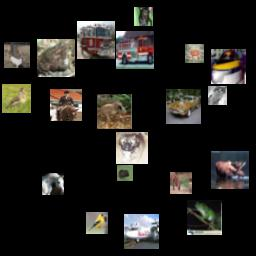airplane: (124, 214, 159, 249), (211, 49, 246, 84)
automobile: (166, 89, 201, 124)
bird: (97, 94, 132, 129), (2, 84, 31, 113), (86, 212, 108, 234)
cat: (208, 86, 227, 105)
deer: (211, 151, 249, 189), (4, 42, 30, 68), (170, 172, 192, 194), (185, 44, 204, 63)
dog: (116, 132, 148, 164), (134, 7, 153, 26)
frog: (37, 39, 75, 77), (187, 200, 222, 235), (117, 165, 133, 181)
truck: (116, 31, 154, 69), (77, 21, 115, 59)
